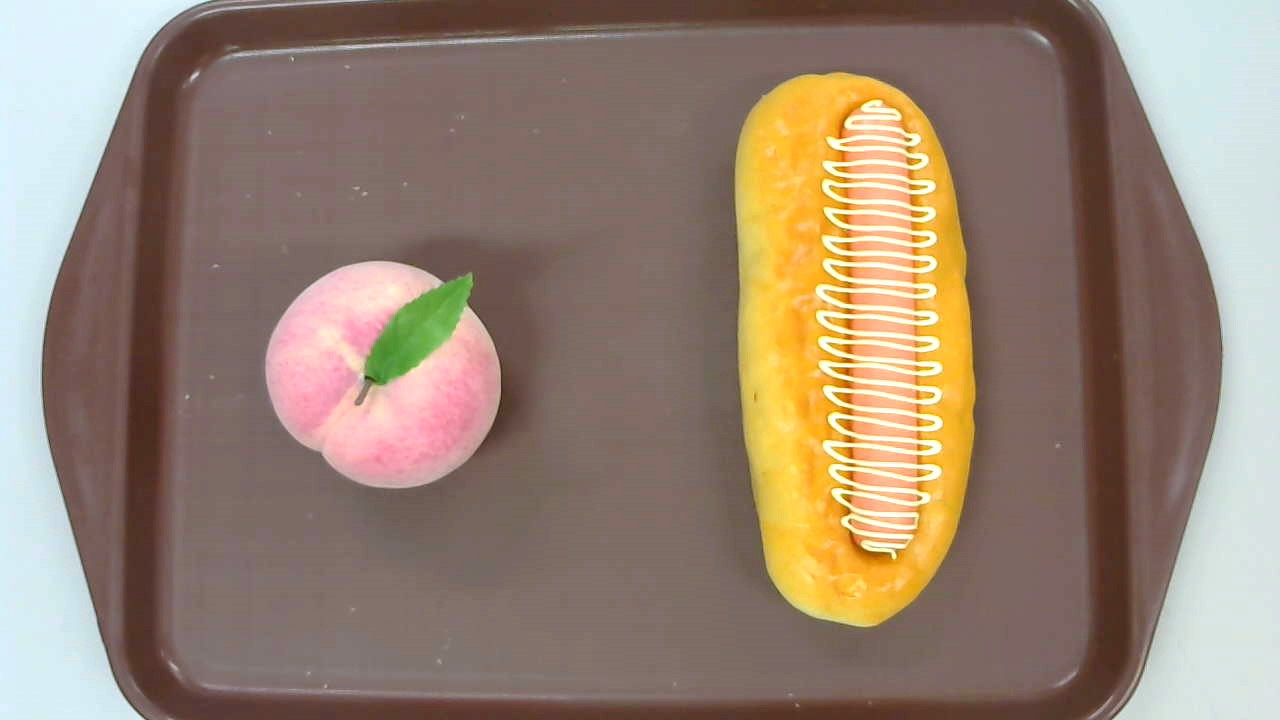hot dog: (733, 72, 976, 629)
peach: (264, 261, 502, 491)
